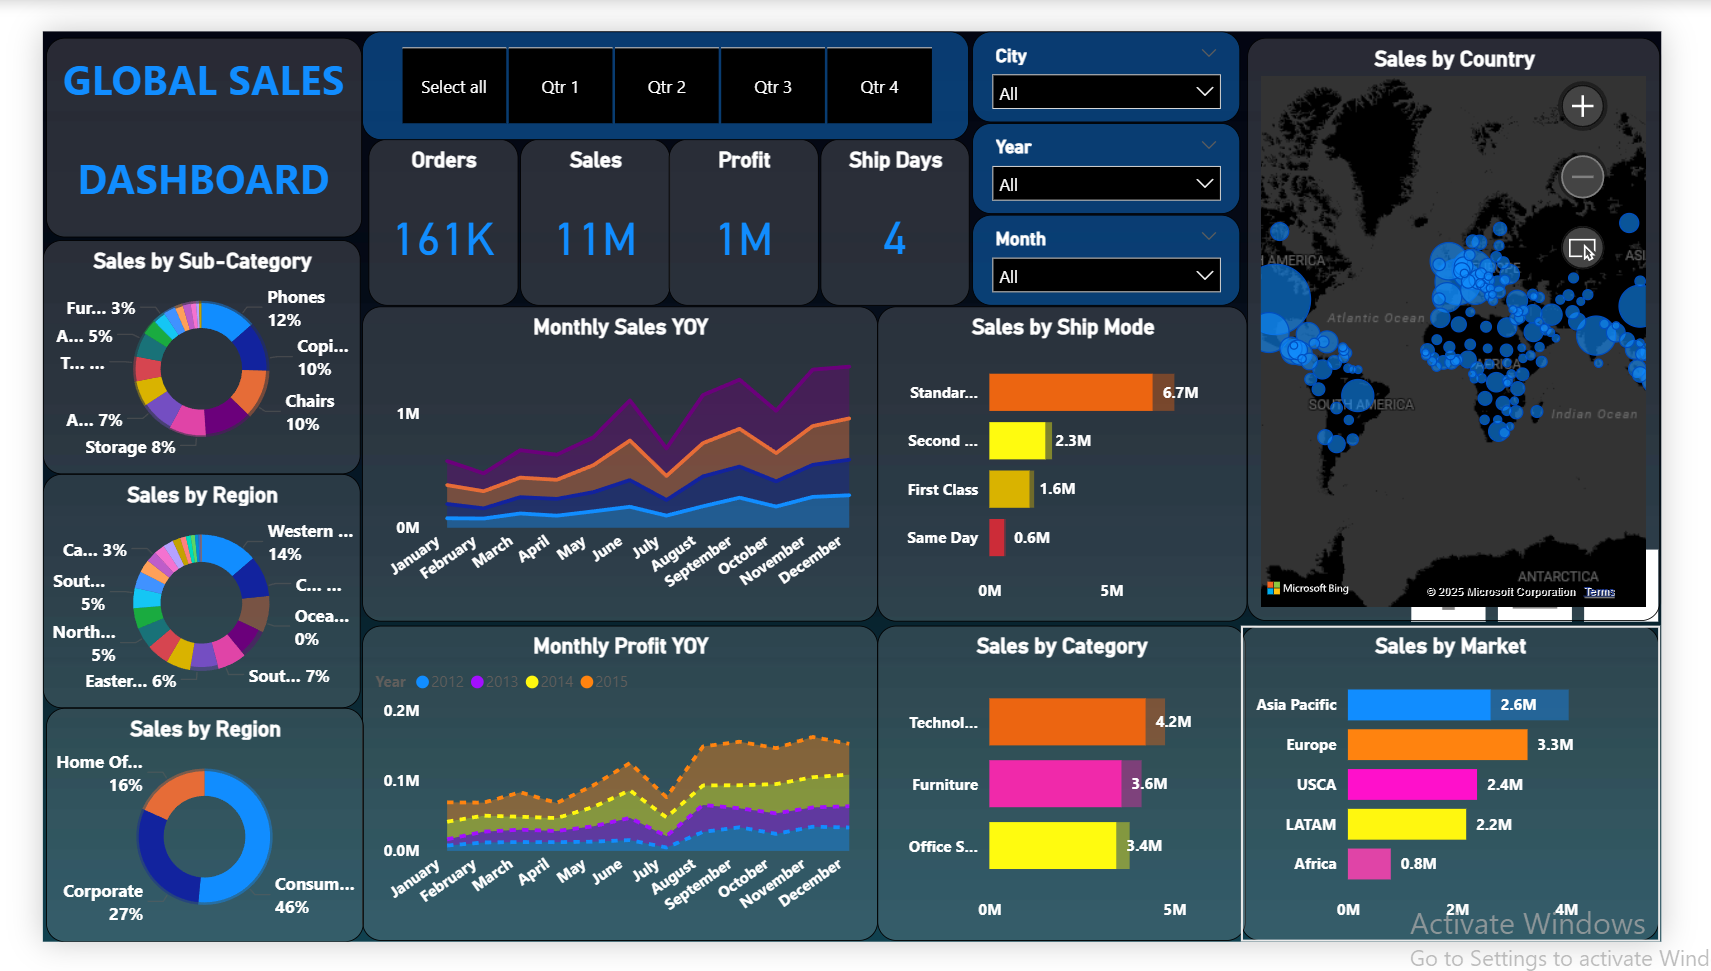

The dashboard page shown, as its layout file describes it:
{"tool":"powerbi","page":{"name":"sales dashboaed","canvas":[1280,720],"ordinal":0},"visuals":[{"type":"textbox","box":[2,4,250,158],"z":0},{"type":"card","title":"Orders","fields":{"Values":["Sum(Orders.Quantity)"]},"box":[258,86,118.5,132.3],"z":0,"group":"g1"},{"type":"card","title":"Sales","fields":{"Values":["Sum(Orders.Sales)"]},"box":[376.6,86,118.6,132.3],"z":1000,"group":"g1"},{"type":"clusteredBarChart","title":"Sales by Ship Mode","fields":{"Y":["Sum(Orders.Sales)"],"Category":["Orders.Ship Mode"]},"box":[659.5,217.3,292.9,249.5],"z":1000},{"type":"card","title":"Profit","fields":{"Values":["Sum(Orders.Profit)"]},"box":[495.2,86,118.6,132.3],"z":2000,"group":"g1"},{"type":"clusteredBarChart","title":"Sales by Category","fields":{"Y":["Sum(Orders.Sales)"],"Category":["Orders.Category"]},"box":[659.5,470.6,291,249.5],"z":2000},{"type":"card","title":"Ship Days","fields":{"Values":["Avg(Orders.AVG DeliveryDays)"]},"box":[614,86,118,132],"z":3000,"group":"g1"},{"type":"clusteredBarChart","title":"Sales by Market","fields":{"Y":["Sum(Orders.Sales)"],"Category":["Orders.Market"]},"box":[948.7,470.5,330.7,249.5],"z":3000},{"type":"map","title":"Sales by Country","fields":{"Size":["Sum(Orders.Sales)"],"Category":["Orders.Country"]},"box":[952.4,5.7,326.9,461.1],"z":4000},{"type":"stackedAreaChart","title":"Monthly Profit YOY","fields":{"Category":["Orders.Order Date.Variation.Date Hierarchy.Month"],"Series":["Orders.Order Date.Variation.Date Hierarchy.Year"],"Y":["Sum(Orders.Profit)"]},"box":[251.3,470.6,408.2,249.5],"z":5000},{"type":"stackedAreaChart","title":"Monthly Sales YOY","fields":{"Y":["Sum(Orders.Sales)"],"Category":["Orders.Order Date.Variation.Date Hierarchy.Month"],"Series":["Orders.Order Date.Variation.Date Hierarchy.Year"]},"box":[251.3,217.3,408.2,249.5],"z":6000},{"type":"donutChart","title":"Sales by Sub-Category","fields":{"Y":["Sum(Orders.Sales)"],"Category":["Orders.Sub-Category"]},"box":[0,164.4,251.3,185.2],"z":7000},{"type":"donutChart","title":"Sales by Region","fields":{"Y":["Sum(Orders.Sales)"],"Category":["Orders.Region"]},"box":[0,349.6,251.3,185.2],"z":8000},{"type":"donutChart","title":"Sales by Region","fields":{"Y":["Sum(Orders.Sales)"],"Category":["Orders.Segment"]},"box":[1.9,534.8,251.3,185.2],"z":9000},{"type":"slicer","fields":{"Values":["Orders.City"]},"box":[734,0,212,72],"z":10000},{"type":"slicer","fields":{"Values":["Orders.Order Date.Variation.Date Hierarchy.Quarter"]},"box":[252,0,480,86],"z":10004,"group":"g1"},{"type":"slicer","fields":{"Values":["Orders.Order Date.Variation.Date Hierarchy.Year"]},"box":[736,72,212,72],"z":11000},{"type":"slicer","fields":{"Values":["Orders.Order Date.Variation.Date Hierarchy.Month"]},"box":[736,144,212,72],"z":12000},{"type":"group","id":"g1","title":"Group 1","box":[252,0,480,218.3],"z":13000}]}

Visuals, with their boxes on the page's 1280x720 design canvas (x1, y1, x2, y2). These are canvas units, not pixel positions in the 1711x971 screenshot, which may show the page scaled, cropped or inside an application window:
textbox: box(2, 4, 252, 162)
"Orders" card: box(258, 86, 376, 218)
"Sales" card: box(377, 86, 495, 218)
"Sales by Ship Mode" clusteredBarChart: box(660, 217, 952, 467)
"Profit" card: box(495, 86, 614, 218)
"Sales by Category" clusteredBarChart: box(660, 471, 950, 720)
"Ship Days" card: box(614, 86, 732, 218)
"Sales by Market" clusteredBarChart: box(949, 470, 1279, 720)
"Sales by Country" map: box(952, 6, 1279, 467)
"Monthly Profit YOY" stackedAreaChart: box(251, 471, 660, 720)
"Monthly Sales YOY" stackedAreaChart: box(251, 217, 660, 467)
"Sales by Sub-Category" donutChart: box(0, 164, 251, 350)
"Sales by Region" donutChart: box(0, 350, 251, 535)
"Sales by Region" donutChart: box(2, 535, 253, 720)
slicer - Orders.City: box(734, 0, 946, 72)
slicer - Orders.Order Date.Variation.Date Hierarchy.Quarter: box(252, 0, 732, 86)
slicer - Orders.Order Date.Variation.Date Hierarchy.Year: box(736, 72, 948, 144)
slicer - Orders.Order Date.Variation.Date Hierarchy.Month: box(736, 144, 948, 216)
"Group 1" group: box(252, 0, 732, 218)
